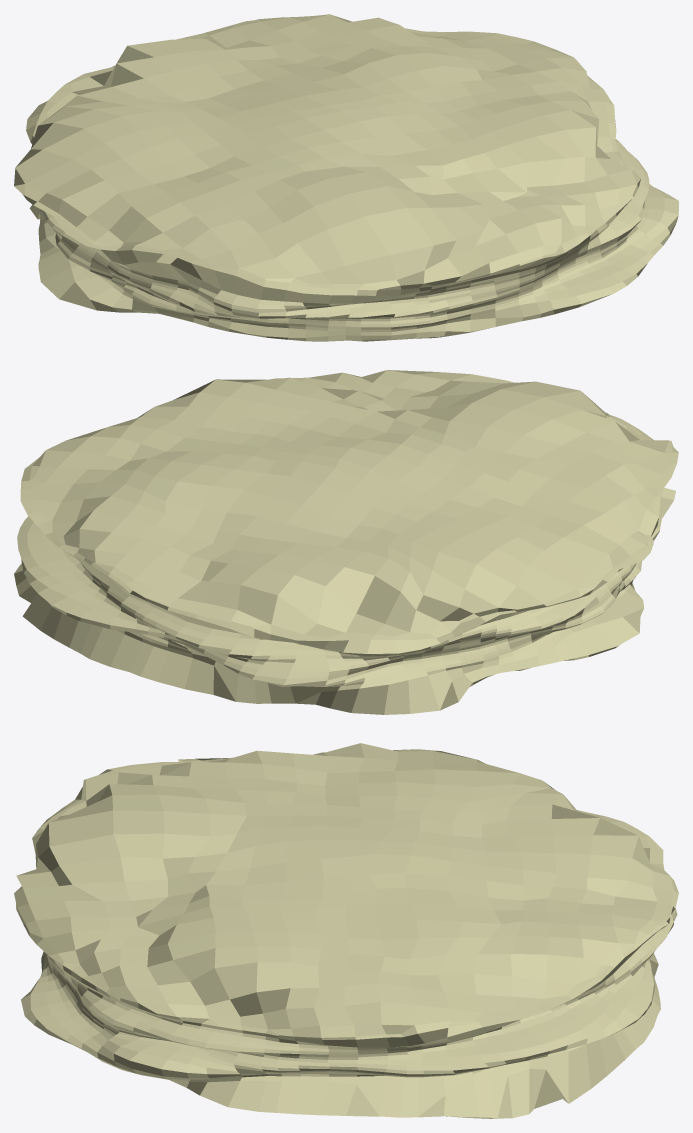
File: Pempek Kulit 1.fbx
3 views of the same model, one above another, from view 1: azimuth 30°, elevation 25°; view 2: azimuth 150°, elevation 25°; view 3: azimuth 270°, elevation 25° (orthographic). The views are drawn at different scales.
Parts seen in each view (by area): view 1: Cylinder; view 2: Cylinder; view 3: Cylinder.
Part boxes in pixels (x1,y1,x2,y2): Cylinder: (14, 14, 678, 341); Cylinder: (14, 370, 678, 714); Cylinder: (14, 743, 678, 1118).
Size of the model in its own units: 230 by 54.41 by 227.
